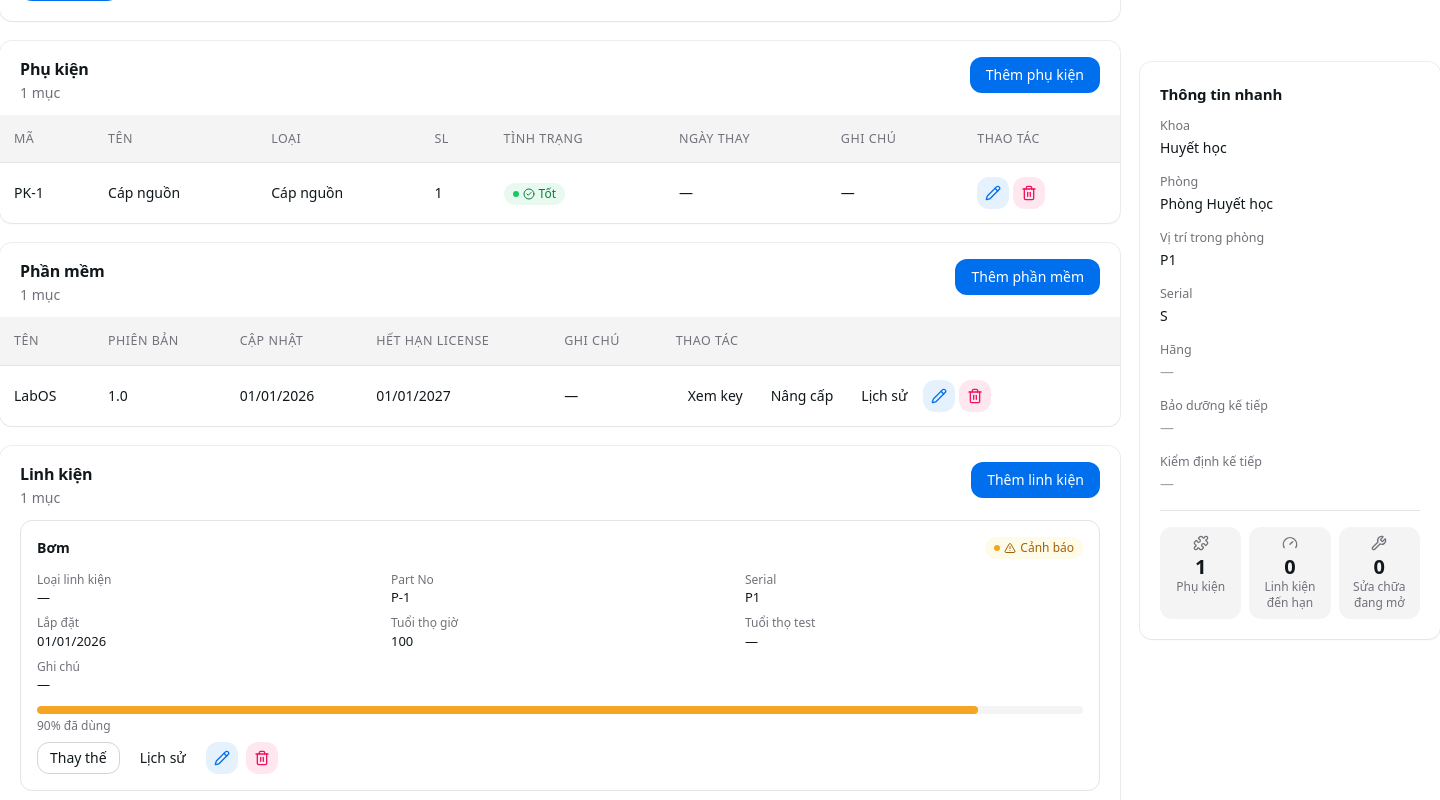
Test case: sửa, nâng cấp phần mềm và xem lịch sử
The width and height of the screenshot is (1440, 800).
(page scrolled)
Click the button named "Sửa" in the row of "LabOS" at x=939, y=396, box [923,380,955,412]
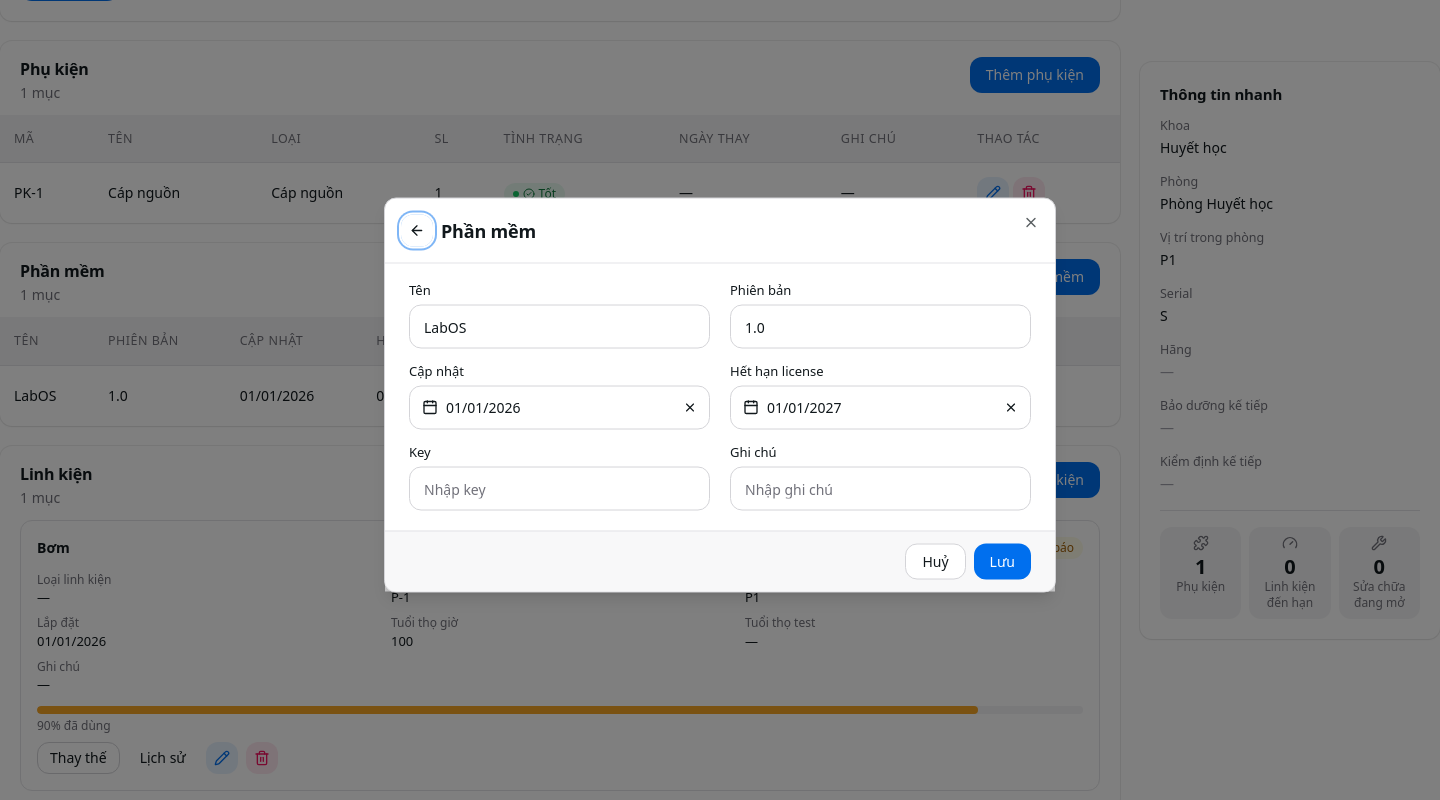
Replace the text in the field labelled "Phiên bản" with "1.1" at x=880, y=326, box [730,304,1031,348]
Click the button "Lưu" at x=1002, y=562, box [974,544,1031,580]
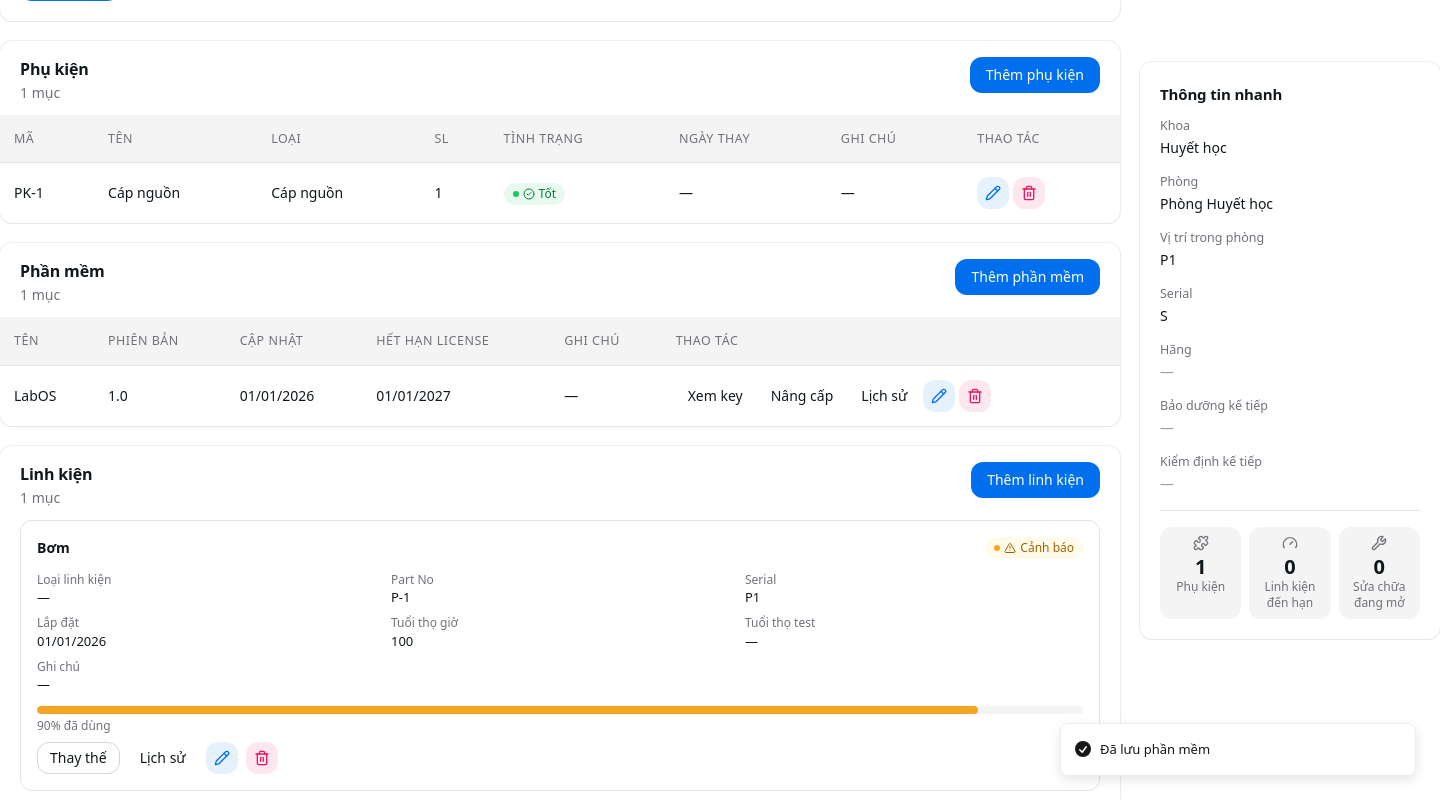
Click the button "Nâng cấp" at x=802, y=396, box [759,380,845,412]
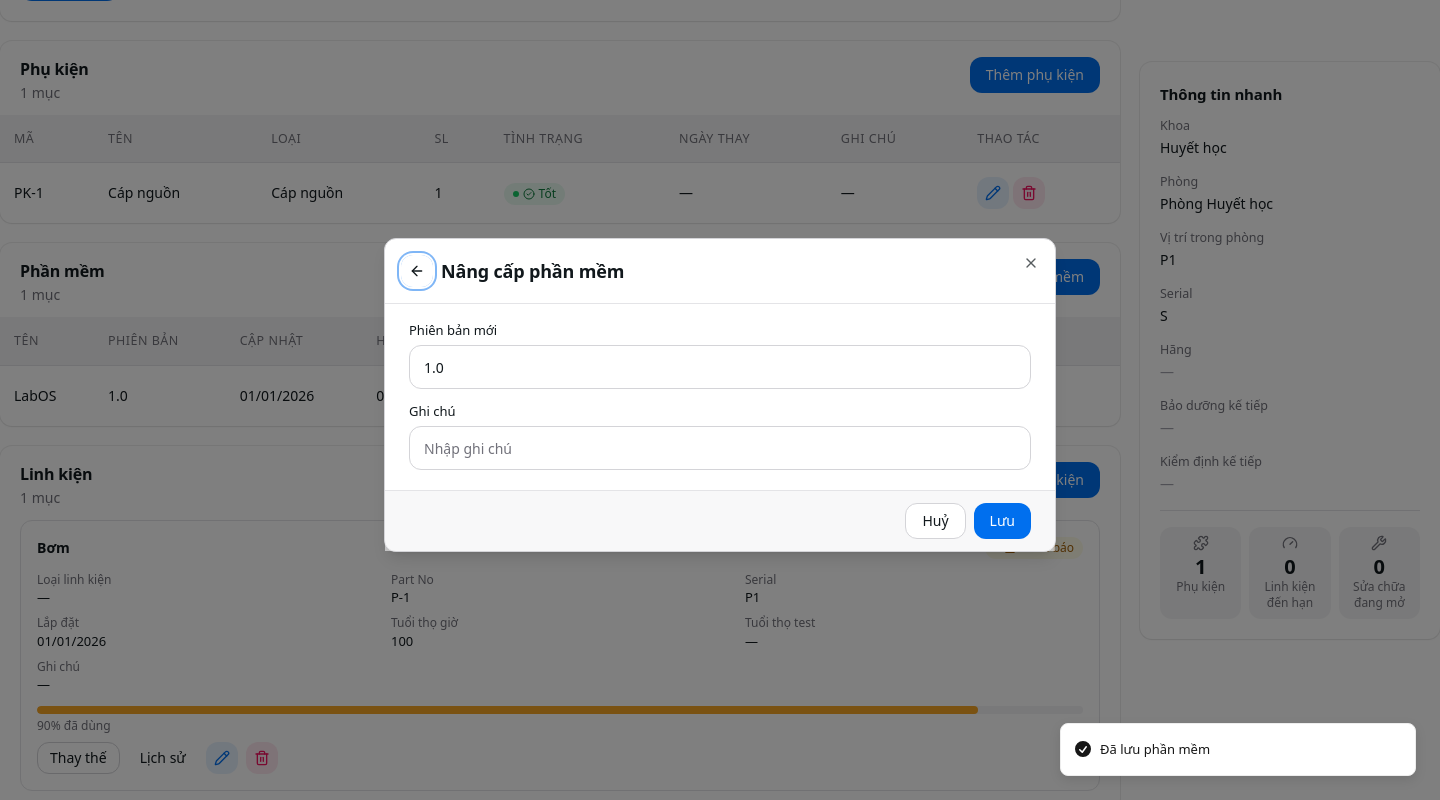
Replace the text in the field labelled "Phiên bản mới" with "2.0" at x=720, y=367, box [409,345,1031,389]
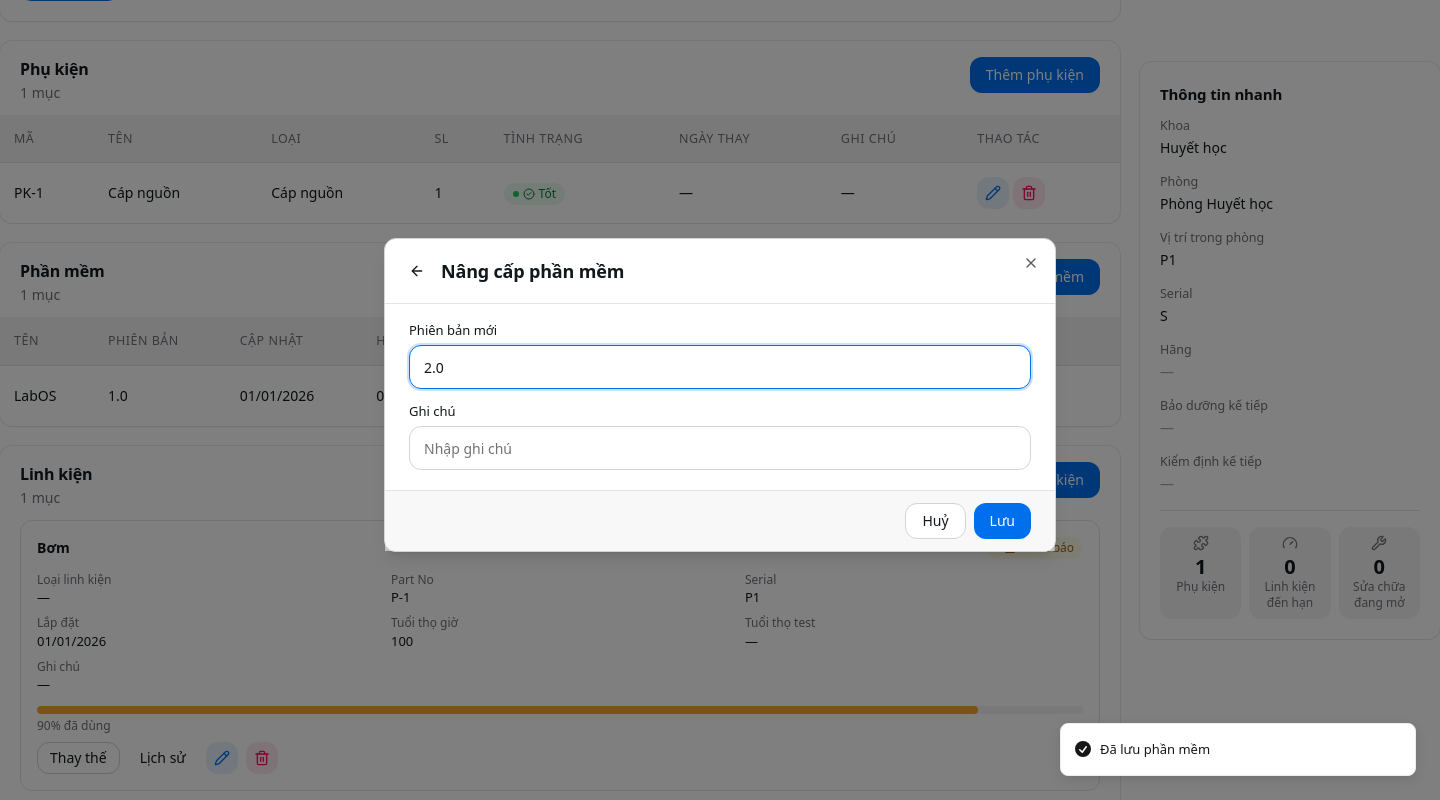
Click the button "Lưu" at x=1002, y=521, box [974,503,1031,539]
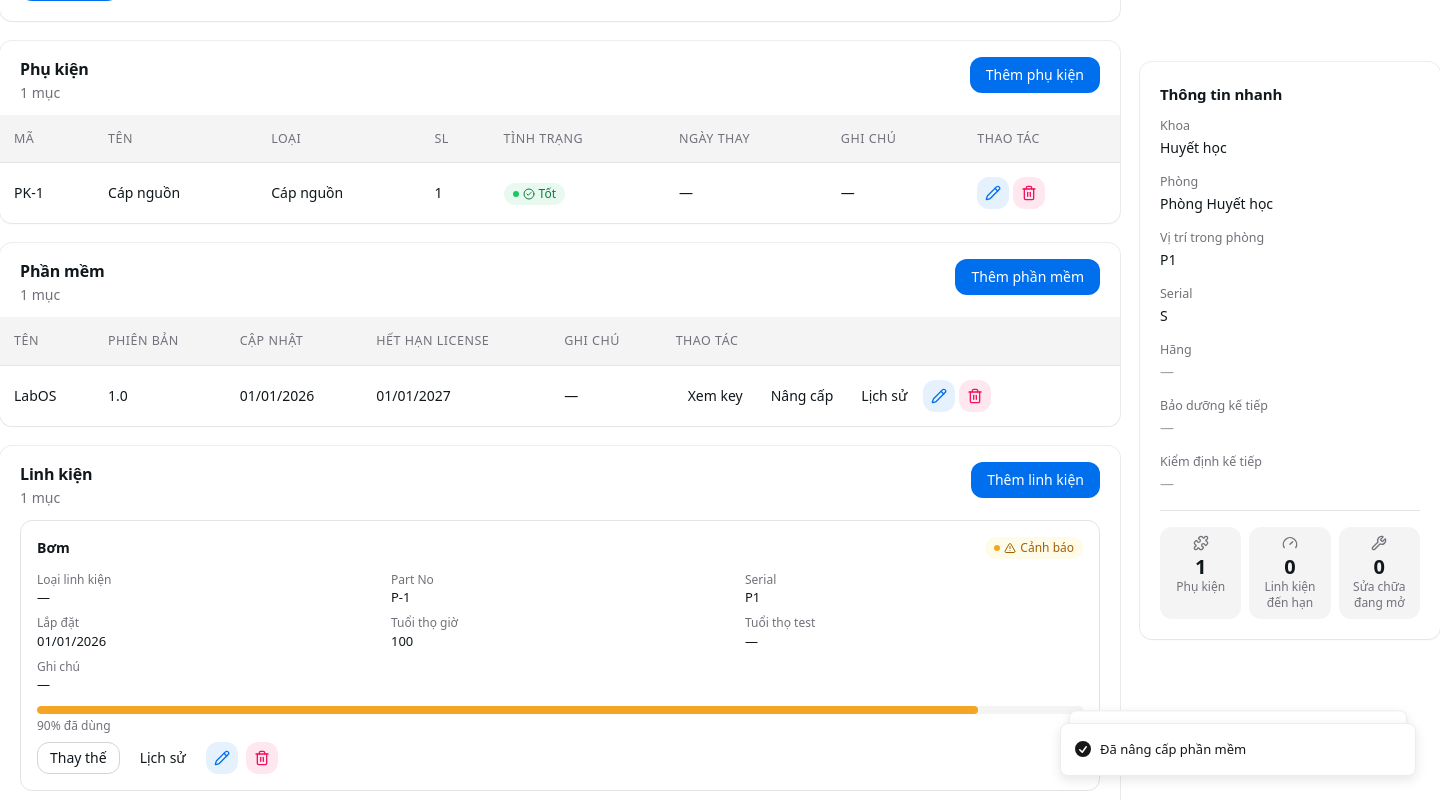
Click the button "Lịch sử" in the row of "LabOS" at x=884, y=396, box [849,380,919,412]
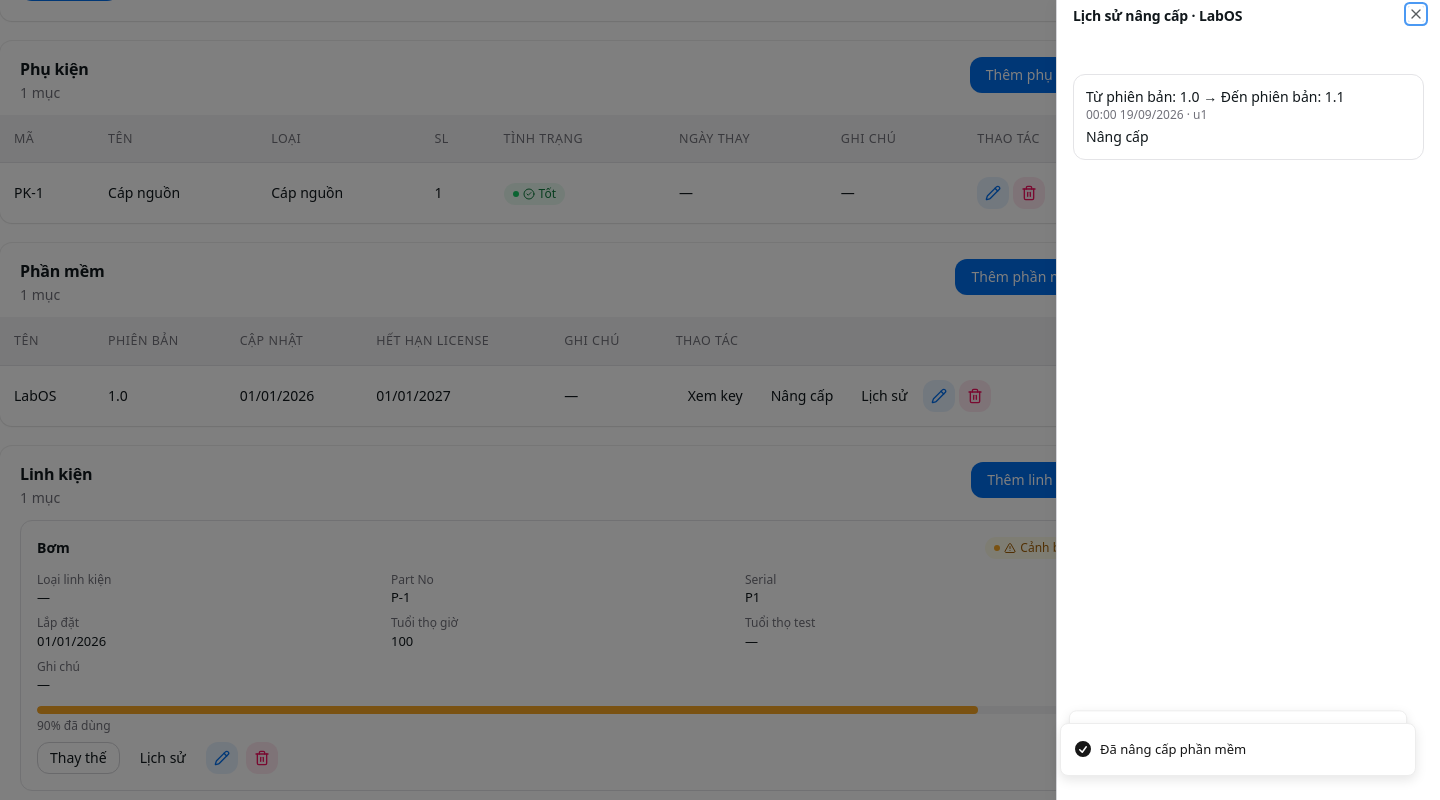
Expected: the heading "Lịch sử nâng cấp · LabOS" is shown, [1073,6,1242,25]
Expected: the text "Từ phiên bản: 1.0 → Đến phiên bản: 1.1" is shown, [1086,87,1345,106]
